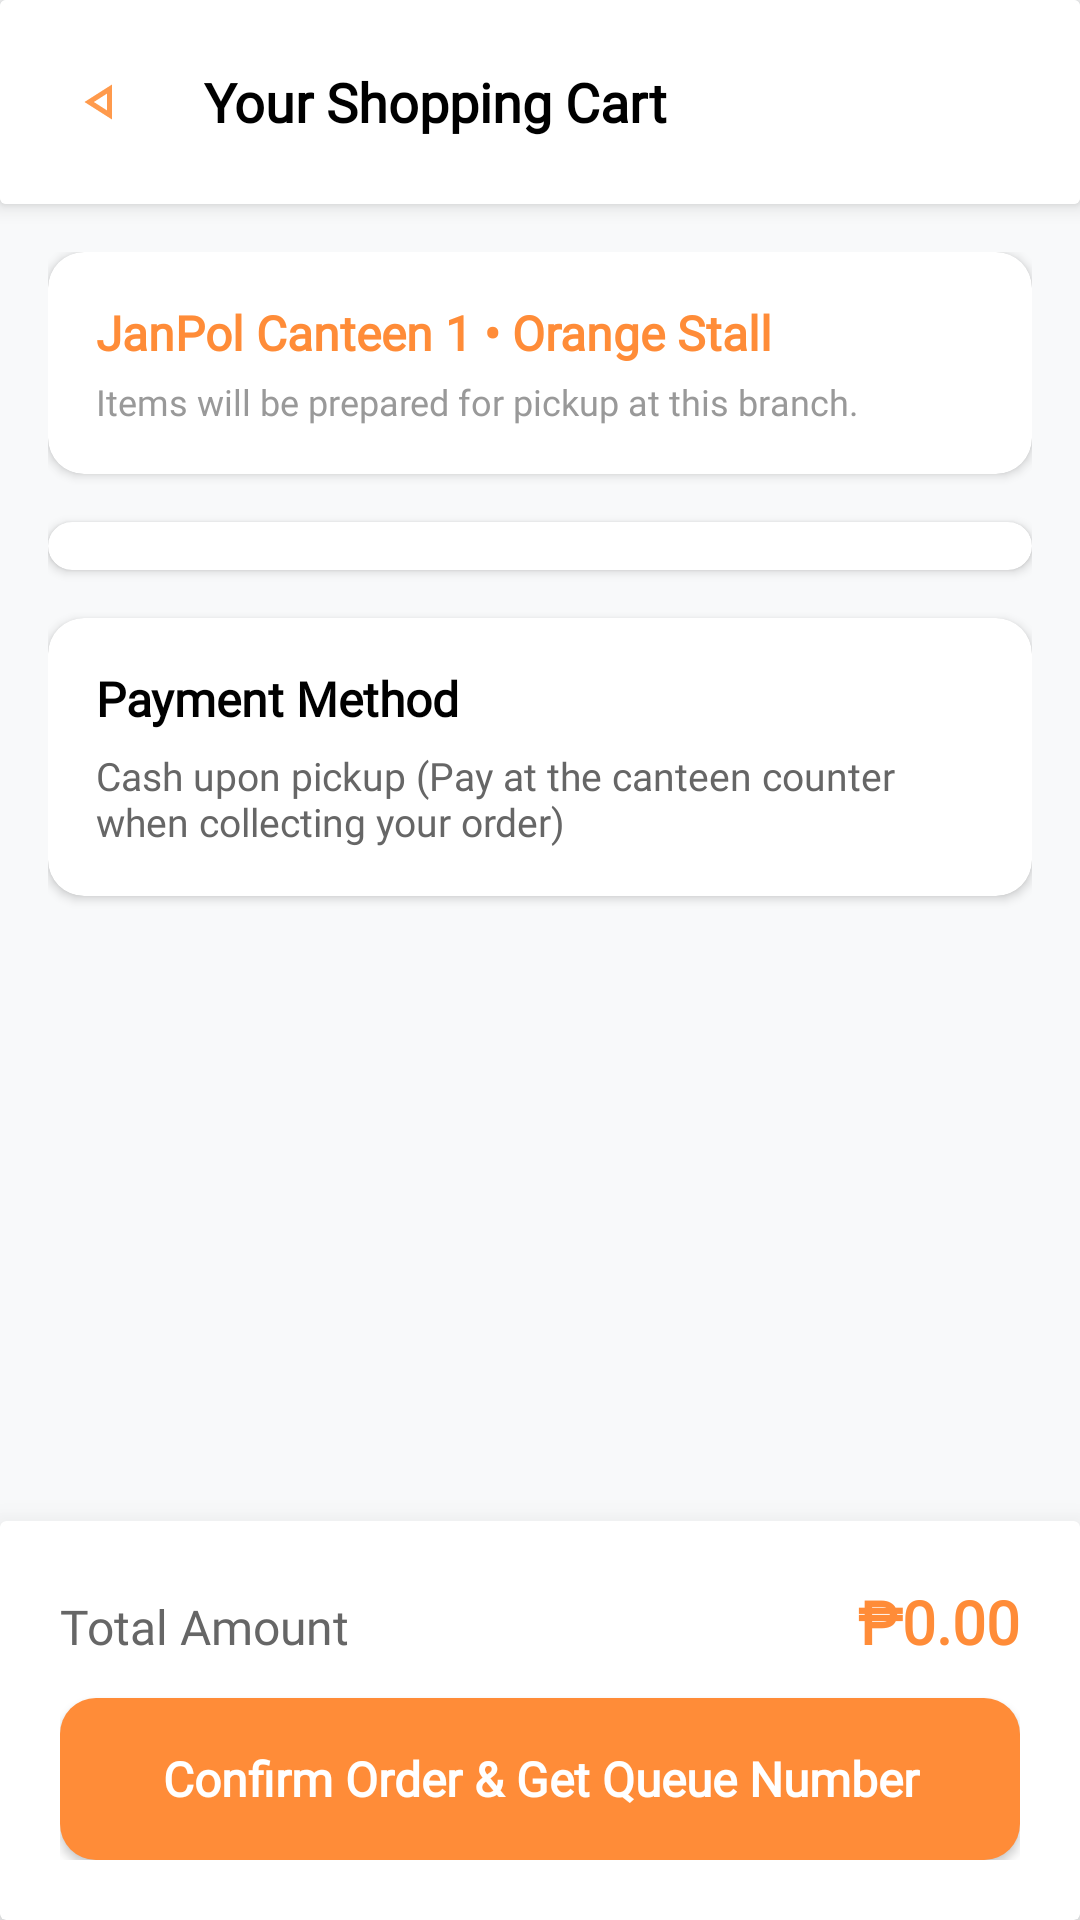

Named icons in this screenshot (1080 × 1920) and their centers, [x,y]:
Back: [98,102]
